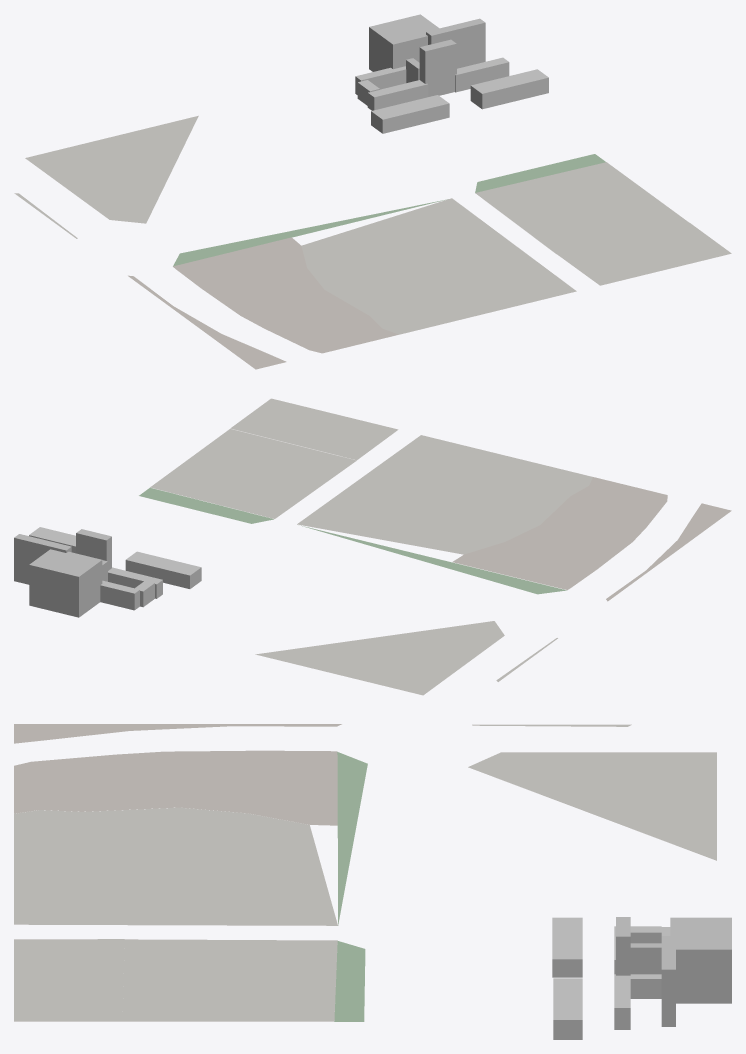
The model's file is 100_103_mid.glb.
3 views of the same model, one above another, from view 1: azimuth 30°, elevation 25°; view 2: azimuth 150°, elevation 25°; view 3: azimuth 270°, elevation 25° (orthographic). The views are drawn at different scales.
Size of the model in its own units: 529 by 48.32 by 511.
